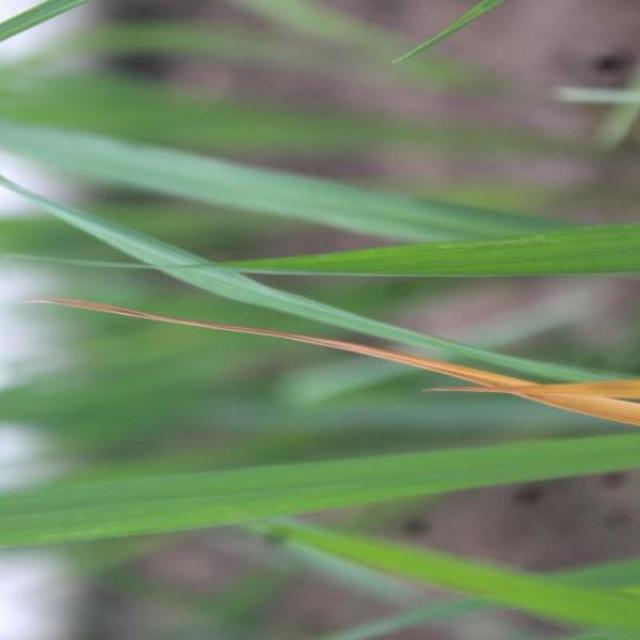Tungro: (22, 282, 640, 433)
